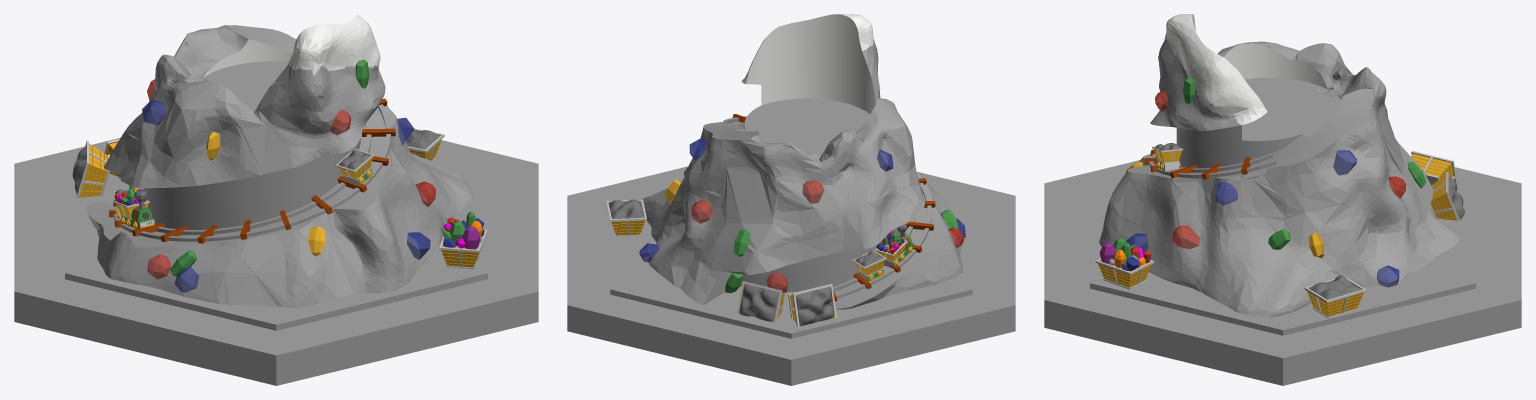
The model's file is OreTile.glb.
3 renders of one model, left to right at view 1: azimuth 30°, elevation 25°; view 2: azimuth 150°, elevation 25°; view 3: azimuth 270°, elevation 25°, orthographic. The views are drawn at different scales.
Parts seen in each view (by area): view 1: MeshBody1__3___1_, Body1, Body1.011, Body1.010, Body1.002, Body1.005, Body1.015, Body1.016, Body53.002, Body3.002, Body1.006; view 2: MeshBody1__3___1_, Body1, Body53.004, Body53, Body1.009, Body1.010, Body53.002, Body1.004, Body1.011, Body1.001, Body3.004, Body3.003; view 3: MeshBody1__3___1_, Body1, Body1.009, Body1.002, Body1.011, Body1.001, Body53.002, Body1.005, Body3, Body1.013, Body1.014, Body1.007.
Boxes of the visible parts, x1,y1,x2,y2 form: MeshBody1__3___1_: [87, 14, 473, 307]; Body1: [14, 138, 538, 385]; Body1.011: [76, 140, 110, 198]; Body1.010: [114, 190, 154, 229]; Body1.002: [439, 220, 487, 269]; Body1.005: [335, 148, 374, 184]; Body1.015: [407, 232, 430, 259]; Body1.016: [142, 99, 165, 125]; Body53.002: [406, 130, 439, 149]; Body3.002: [147, 254, 171, 279]; Body1.006: [174, 266, 199, 292]; MeshBody1__3___1_: [642, 14, 962, 309]; Body1: [567, 166, 1015, 385]; Body53.004: [795, 287, 833, 326]; Body53: [739, 284, 779, 321]; Body1.009: [606, 199, 646, 236]; Body1.010: [875, 224, 913, 266]; Body53.002: [608, 199, 644, 218]; Body1.004: [852, 250, 886, 281]; Body1.011: [788, 283, 836, 327]; Body1.001: [737, 281, 786, 322]; Body3.004: [802, 180, 824, 203]; Body3.003: [691, 200, 712, 223]; MeshBody1__3___1_: [1099, 14, 1460, 317]; Body1: [1044, 156, 1521, 385]; Body1.009: [1304, 276, 1366, 318]; Body1.002: [1095, 246, 1154, 289]; Body1.011: [1411, 151, 1458, 190]; Body1.001: [1430, 171, 1459, 221]; Body53.002: [1309, 275, 1361, 299]; Body1.005: [1152, 146, 1183, 170]; Body3: [1172, 225, 1199, 249]; Body1.013: [1333, 150, 1356, 175]; Body1.014: [1215, 182, 1237, 205]; Body1.007: [1377, 265, 1399, 287].
Size of the model in its own units: 90 by 44.62 by 77.94.
